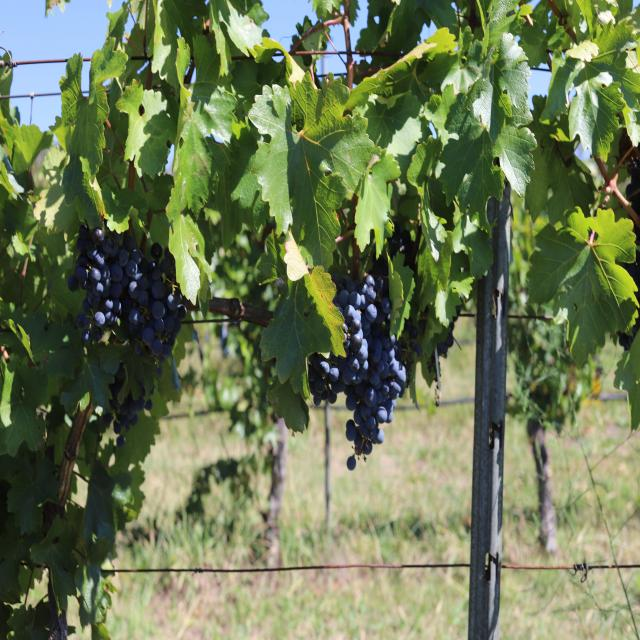grapes: (67, 224, 186, 377), (308, 274, 406, 456), (103, 361, 154, 447)
